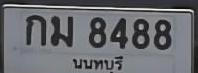4: (110, 17, 127, 48)
8: (88, 16, 105, 47), (153, 18, 170, 49), (131, 18, 148, 48)
A01: (25, 14, 45, 45)
A33: (50, 15, 72, 46)
NBI: (69, 54, 126, 73)
